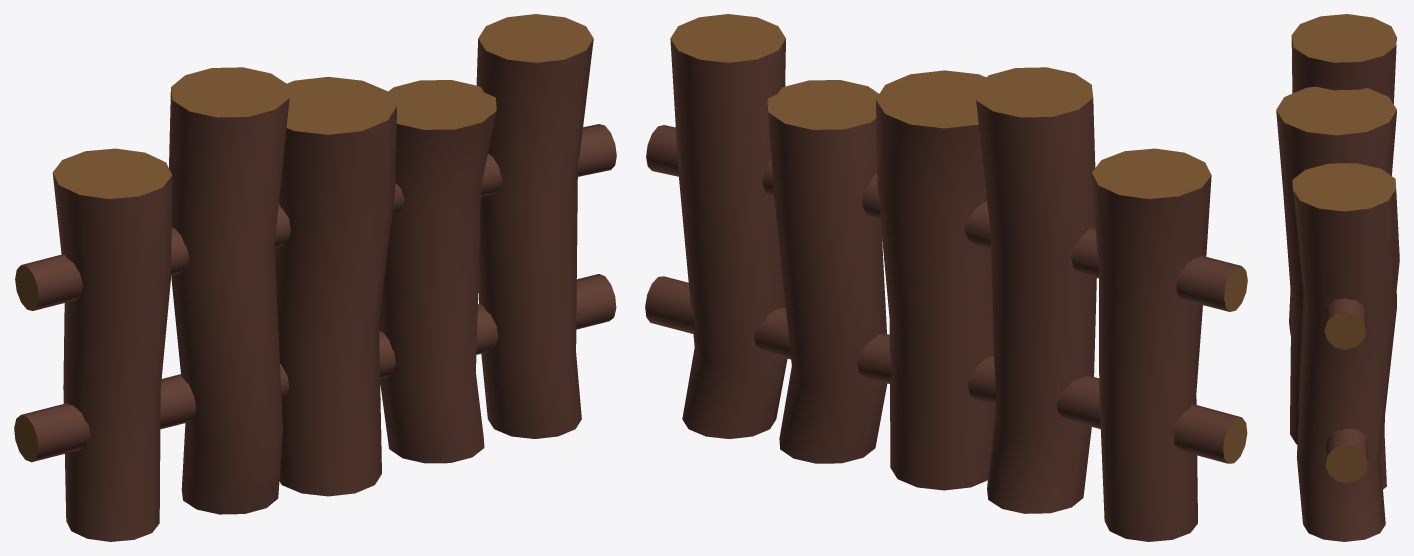
Rendered from WoodStackFence_Single2.fbx.
The picture shows the model from 3 angles, left to right: view 1: azimuth 30°, elevation 25°; view 2: azimuth 150°, elevation 25°; view 3: azimuth 270°, elevation 25°; orthographic projection. The views are drawn at different scales.
Visible parts, largest first — view 1: WoodStackFence_Single2; view 2: WoodStackFence_Single2; view 3: WoodStackFence_Single2.
Part boxes in pixels (x1=…): WoodStackFence_Single2: x1=14, y1=14, x2=616, y2=541; WoodStackFence_Single2: x1=645, y1=14, x2=1247, y2=541; WoodStackFence_Single2: x1=1276, y1=14, x2=1399, y2=541.
Bounding box in the file's own units: 302 × 200 × 63.55.
